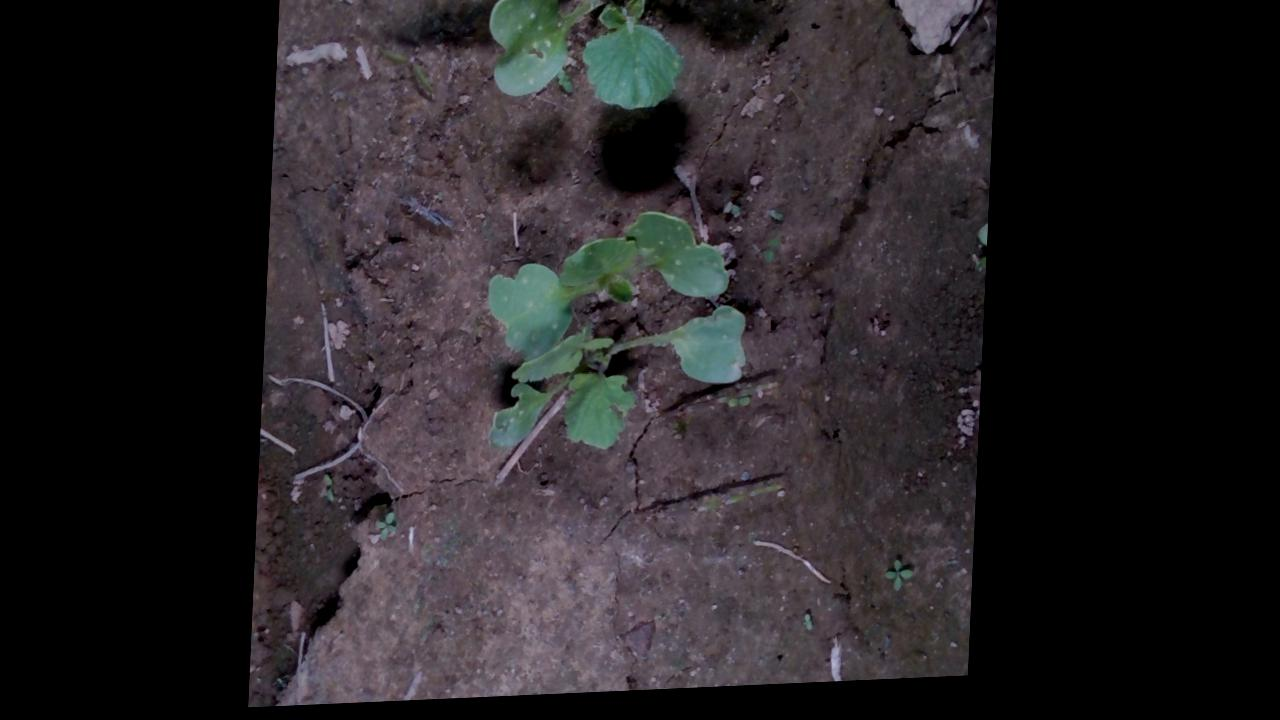weed: (373, 48, 437, 101), (889, 566, 919, 603), (378, 515, 402, 546), (764, 244, 785, 273)
